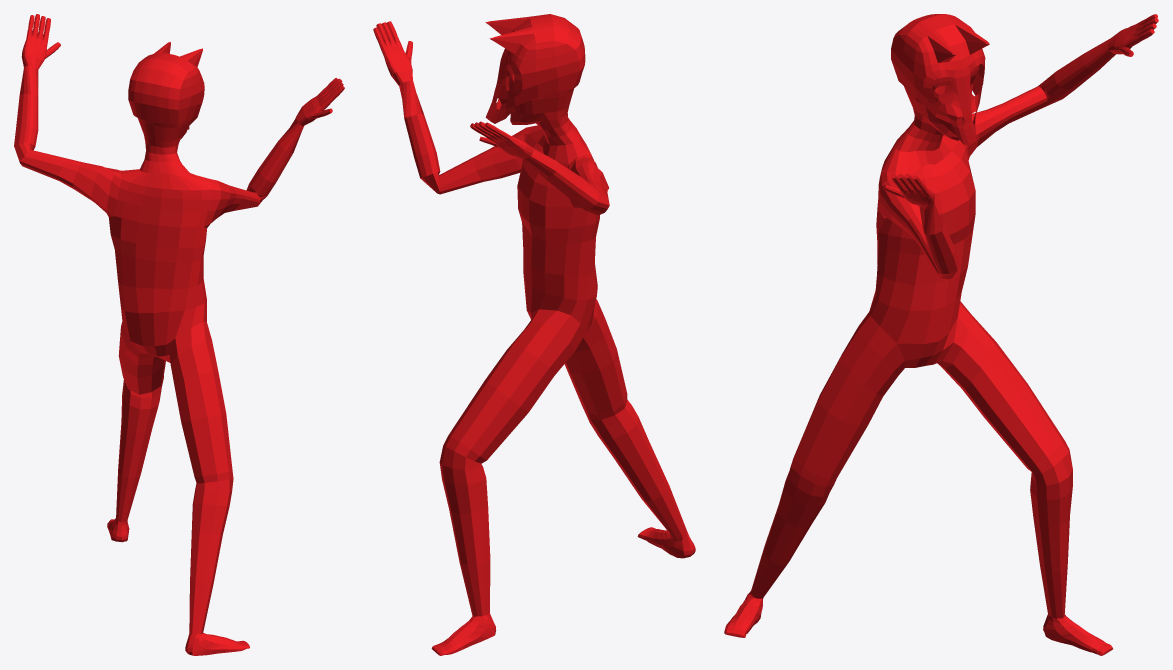
File: activaAlarma_000232.obj
3 renders of one model, left to right at view 1: azimuth 30°, elevation 25°; view 2: azimuth 150°, elevation 25°; view 3: azimuth 270°, elevation 25°, orthographic. The views are drawn at different scales.
Parts seen in each view (by area): view 1: Plane.002_Plane.001; view 2: Plane.002_Plane.001; view 3: Plane.002_Plane.001.
Boxes of the visible parts, bbox=[...] form: Plane.002_Plane.001: bbox=[14, 14, 344, 655]; Plane.002_Plane.001: bbox=[373, 14, 695, 655]; Plane.002_Plane.001: bbox=[724, 14, 1158, 655].
Bounding box in the file's own units: 3.55 × 6.74 × 4.25.
